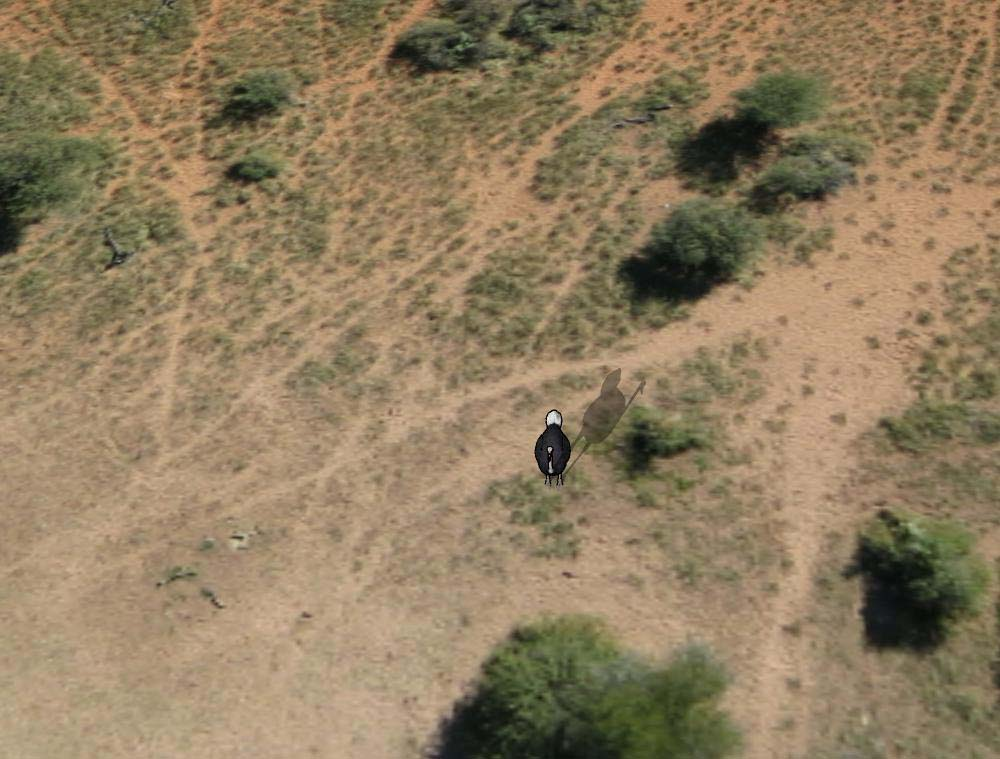ostrich: (530, 408, 572, 486)
